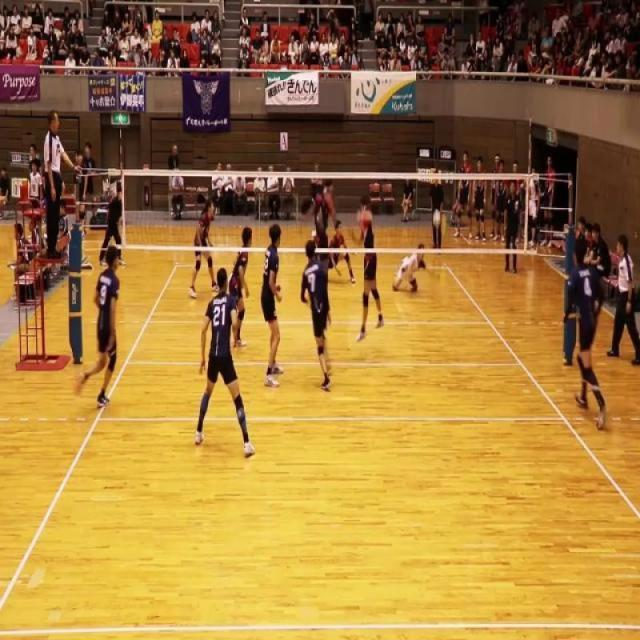volleyball: (432, 208, 442, 228)
